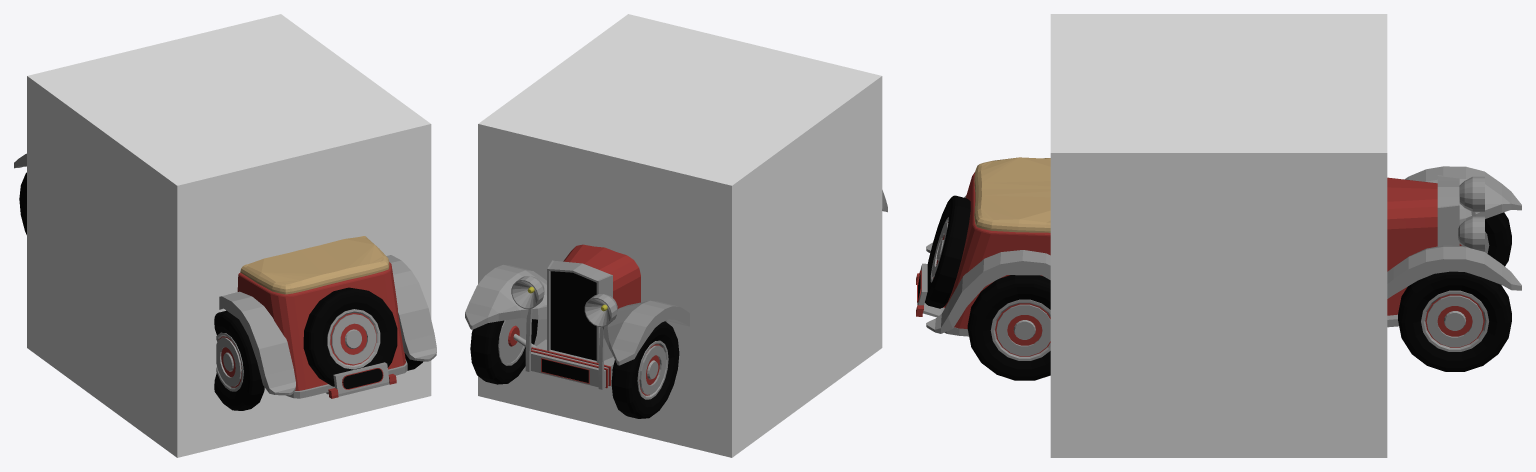
The model's file is 15b32a5f-e029-11ec-b2ba-bca8a6eea024.glb.
3 views of the same model, side by side, from view 1: azimuth 30°, elevation 25°; view 2: azimuth 150°, elevation 25°; view 3: azimuth 270°, elevation 25° (orthographic). The views are drawn at different scales.
Visible parts, largest first — view 1: Remeshed_Object, Original_Object; view 2: Remeshed_Object, Original_Object; view 3: Remeshed_Object, Original_Object.
Boxes of the visible parts, x1,y1,x2,y2 form: Remeshed_Object: (27,14,431,457); Original_Object: (14,153,436,410); Remeshed_Object: (478,14,882,457); Original_Object: (465,190,887,418); Remeshed_Object: (1050,14,1387,457); Original_Object: (916,157,1521,380).
Bounding box in the file's own units: 3.1 × 3.17 × 5.71.
